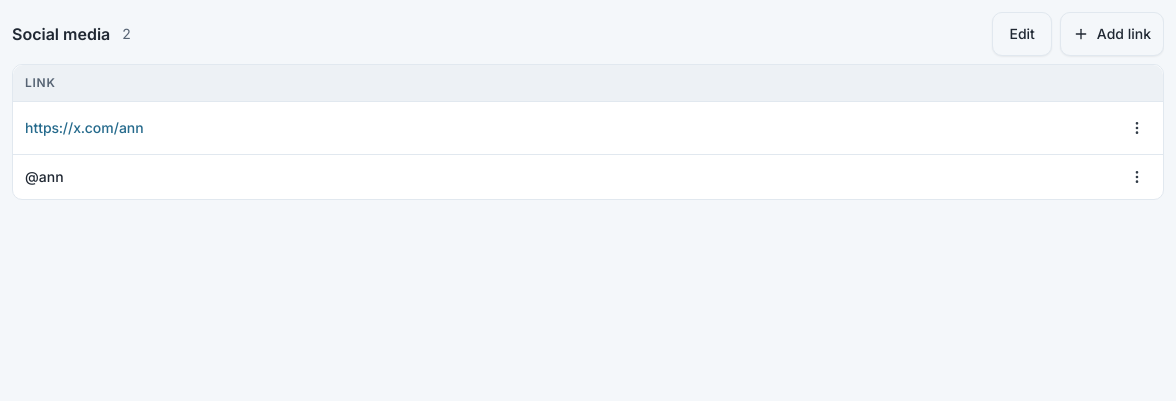
Test case: SocialSection: save › Remove all: strike 51 and 52, Save → remove [51, 52], then the empty state (zero links is allowed)
Click the button "Edit".
click(1022, 34)  # box [992,12,1052,56]
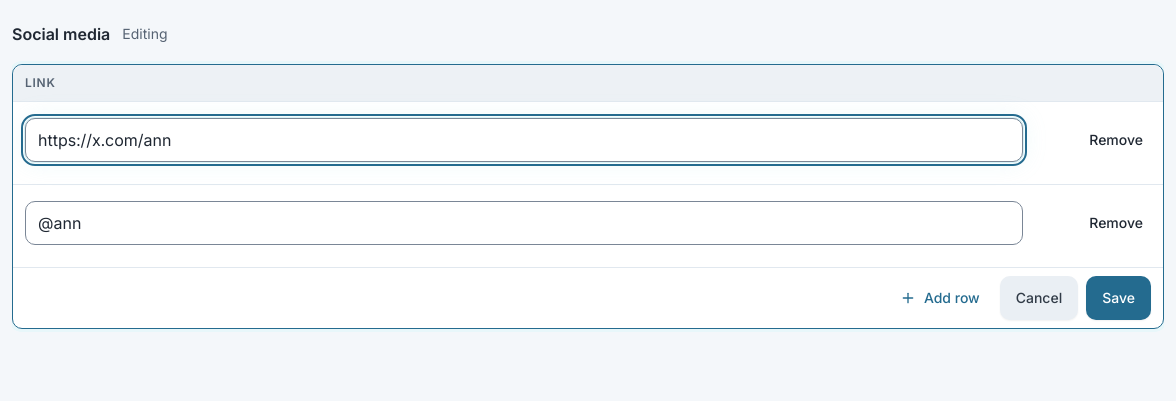
Click the 1st button "Remove".
click(1116, 140)  # box [1073,118,1159,162]
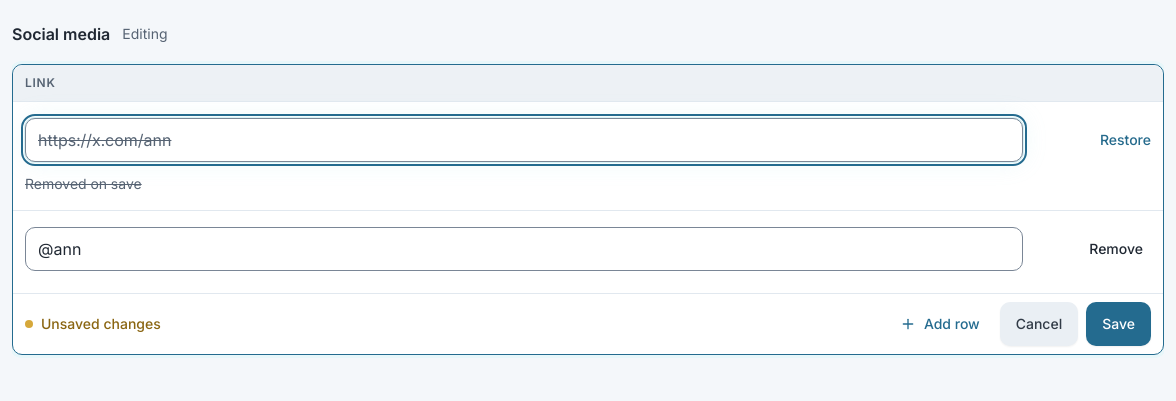
Click the button "Remove".
click(1116, 248)  # box [1073,226,1159,270]
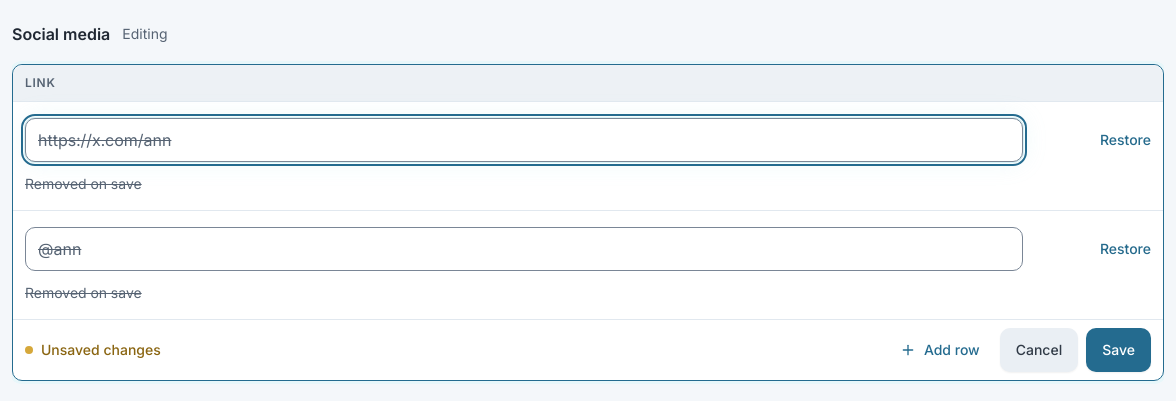
Click the button "Save".
click(1119, 350)  # box [1086,328,1151,372]
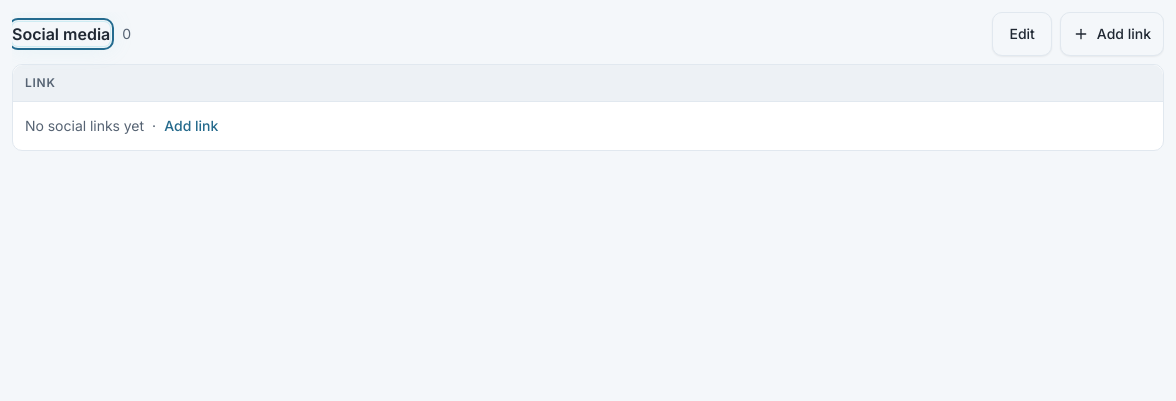
Result: the row "No social links yet · Add link" is shown at [13,101,1163,150]
